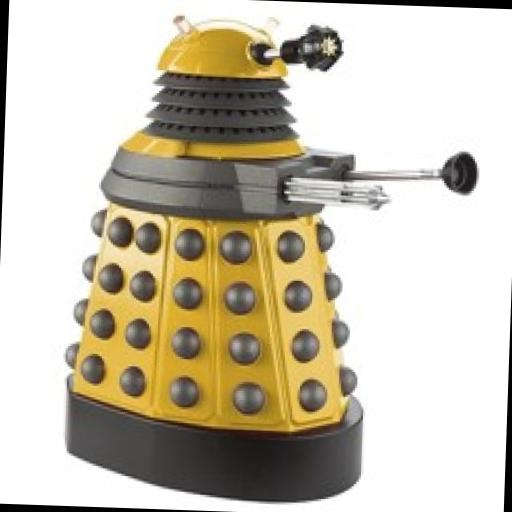dalek: (54, 5, 501, 507)
